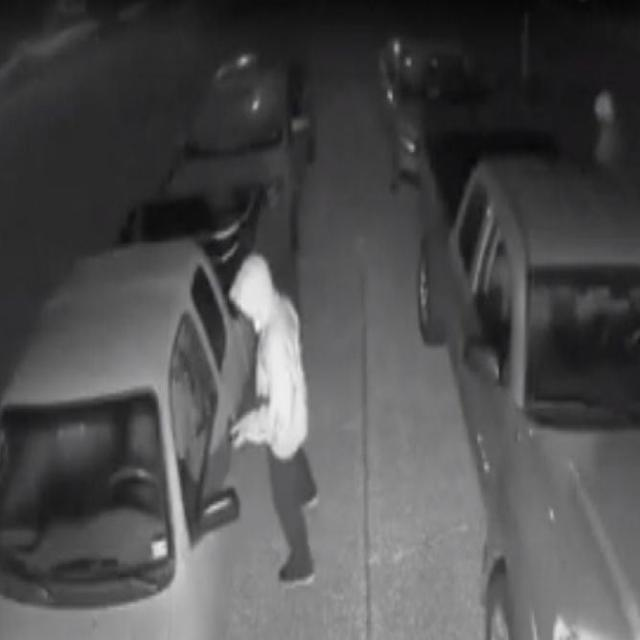standing: (229, 253, 317, 584)
